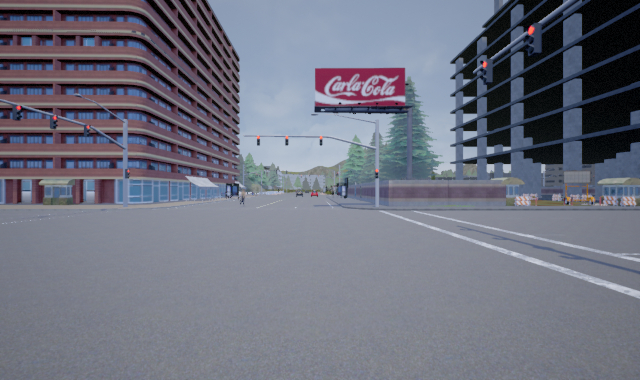bike: (238, 187, 247, 207)
traffic_light: (523, 21, 544, 54), (478, 55, 493, 83), (11, 101, 23, 120), (49, 112, 58, 130), (82, 121, 90, 138), (124, 166, 130, 178), (373, 167, 379, 179), (284, 134, 289, 145), (319, 133, 323, 146), (255, 133, 259, 145)
